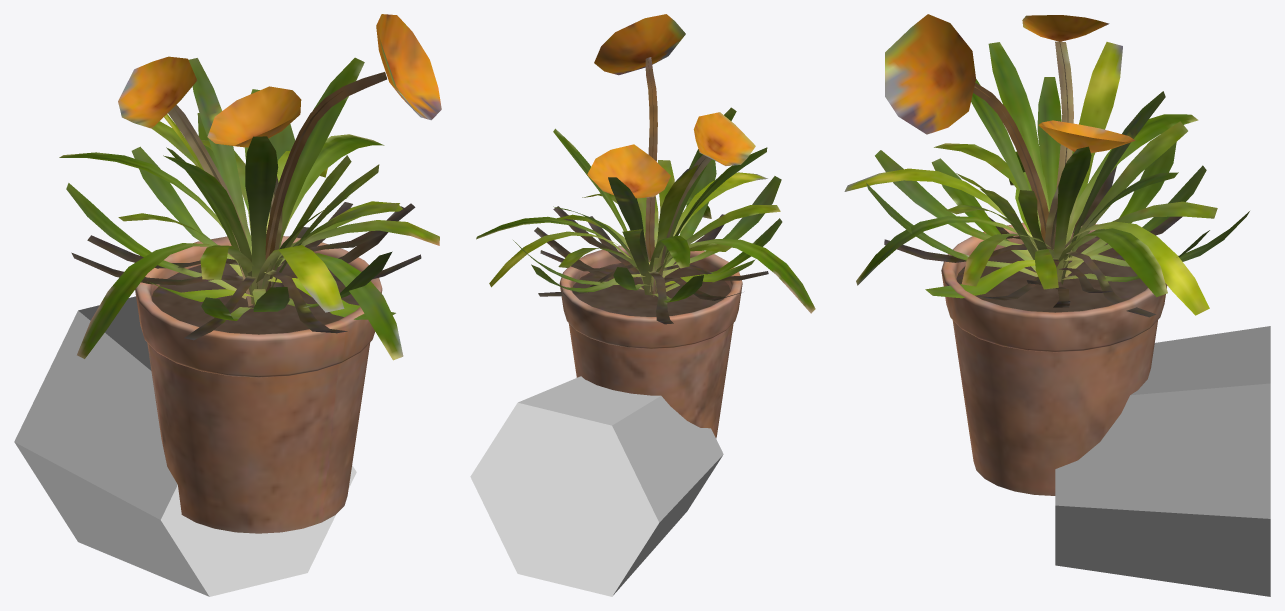
The model's file is SM_Flowerpot_06.fbx.
3 renders of one model, left to right at view 1: azimuth 30°, elevation 25°; view 2: azimuth 150°, elevation 25°; view 3: azimuth 270°, elevation 25°, orthographic. The views are drawn at different scales.
Visible parts, largest first — view 1: SM_Flowerpot_06_LOD0, SM_Flowerpot_06_ConvexHulls; view 2: SM_Flowerpot_06_LOD0, SM_Flowerpot_06_ConvexHulls; view 3: SM_Flowerpot_06_LOD0, SM_Flowerpot_06_ConvexHulls.
Boxes of the visible parts, box(x1,y1,x2,y2) form: SM_Flowerpot_06_LOD0: box(59, 14, 441, 533); SM_Flowerpot_06_ConvexHulls: box(14, 296, 356, 596); SM_Flowerpot_06_LOD0: box(476, 14, 815, 438); SM_Flowerpot_06_ConvexHulls: box(470, 376, 723, 596); SM_Flowerpot_06_LOD0: box(844, 14, 1249, 495); SM_Flowerpot_06_ConvexHulls: box(1055, 326, 1270, 596).
Bounding box in the file's own units: 44.74 × 47.17 × 70.33.
